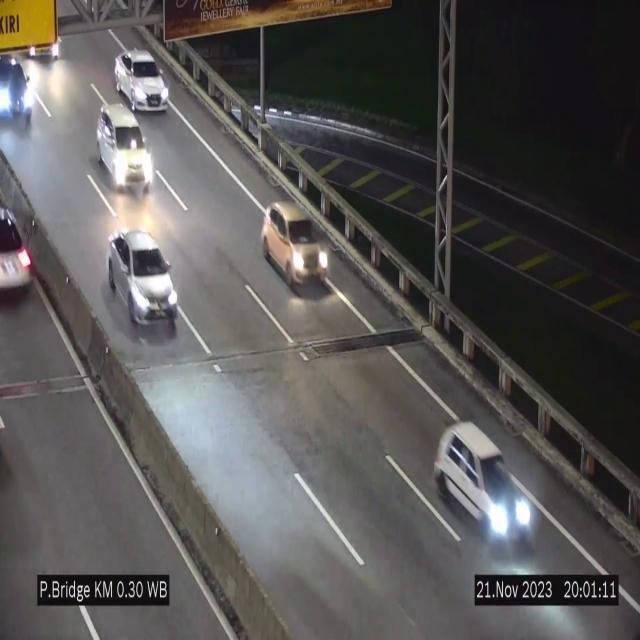Car: (433, 420, 531, 548), (107, 230, 178, 331), (0, 185, 49, 306), (262, 202, 327, 288), (97, 104, 153, 190), (114, 50, 168, 112), (0, 56, 38, 122)
